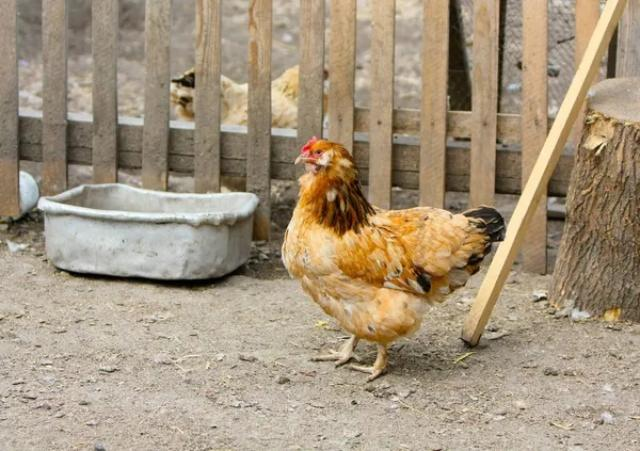Chicken: (282, 137, 507, 379)
